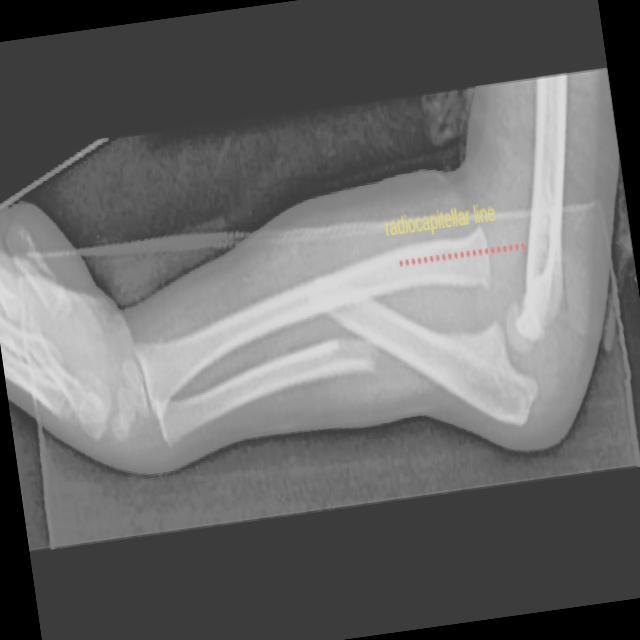Fracture Dislocation: (434, 317, 570, 422), (449, 232, 558, 347), (305, 314, 400, 382)
